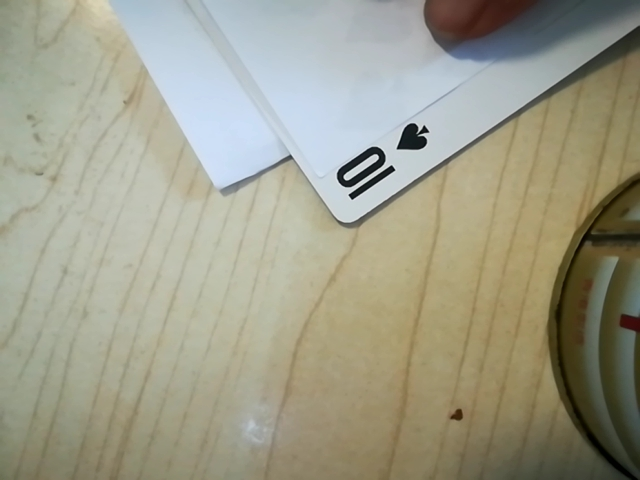ht 10: (319, 108, 445, 220)
